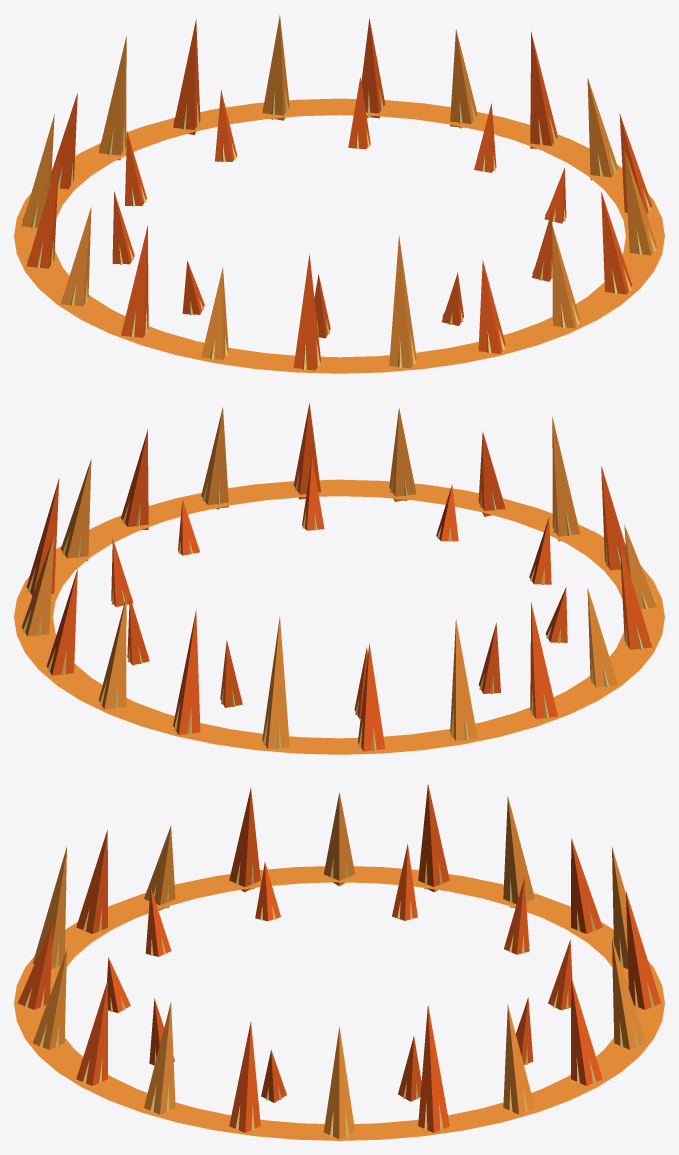
File: pyro_inferno.glb
3 views of the same model, one above another, from view 1: azimuth 30°, elevation 25°; view 2: azimuth 150°, elevation 25°; view 3: azimuth 270°, elevation 25° (orthographic).
Visible parts, largest first — view 1: pyro_inferno; view 2: pyro_inferno; view 3: pyro_inferno.
Boxes of the visible parts, left/top/right/bottom form: pyro_inferno: left=14, top=15, right=664, bottom=373; pyro_inferno: left=14, top=402, right=664, bottom=754; pyro_inferno: left=14, top=784, right=664, bottom=1140.
Size of the model in its own units: 2 by 0.4279 by 2.
1 material, 1 textured.
